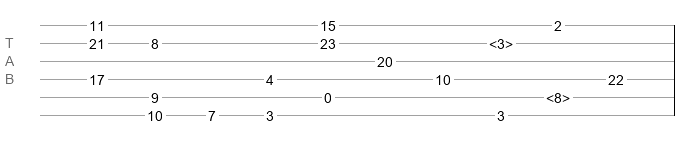0: (324, 90, 332, 100)
10: (147, 108, 163, 118), (435, 72, 451, 82)
11: (89, 18, 105, 28)
15: (320, 18, 336, 28)
17: (89, 72, 105, 82)
2: (554, 18, 562, 28)
20: (377, 54, 393, 64)
21: (89, 36, 105, 46)
22: (608, 72, 624, 82)
23: (320, 36, 336, 46)
3: (266, 108, 274, 118), (497, 108, 505, 118)
4: (266, 72, 274, 82)
7: (208, 108, 216, 118)
8: (151, 36, 159, 46)
9: (151, 90, 159, 100)
harmonic: (489, 36, 513, 46), (546, 90, 570, 100)
